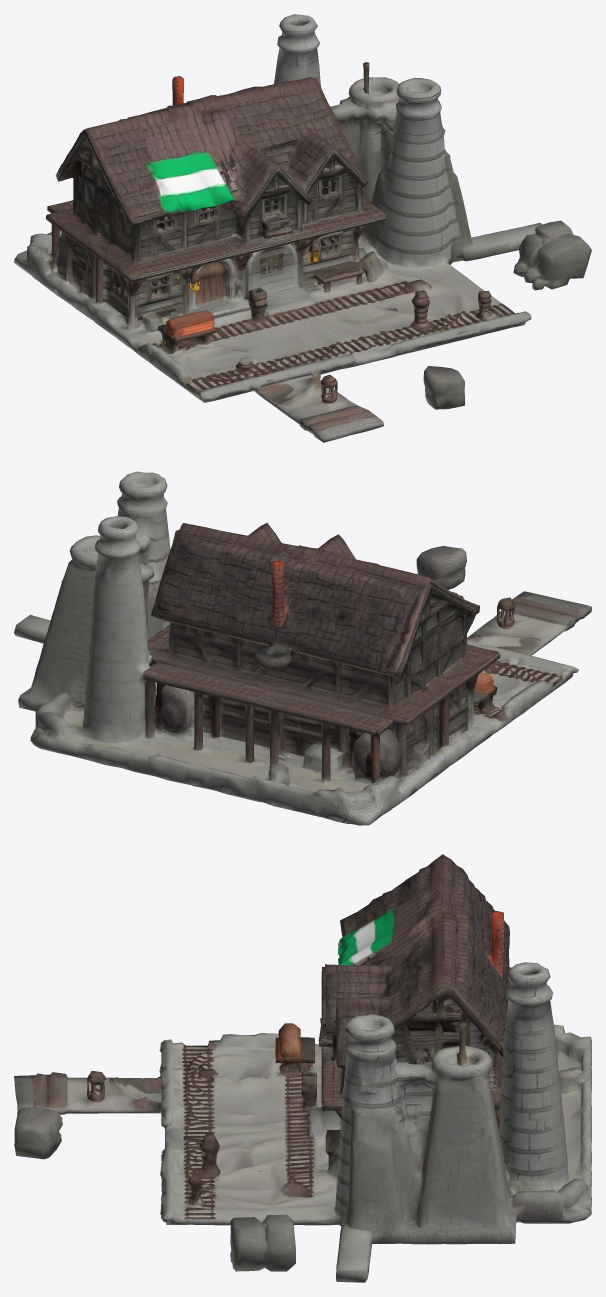
Rendered from advanced.glb.
3 views of the same model, one above another, from view 1: azimuth 30°, elevation 25°; view 2: azimuth 150°, elevation 25°; view 3: azimuth 270°, elevation 25° (orthographic). The views are drawn at different scales.
Bounding box in the file's own units: 1.82 × 0.8194 × 1.91.
1 material, 1 textured.
